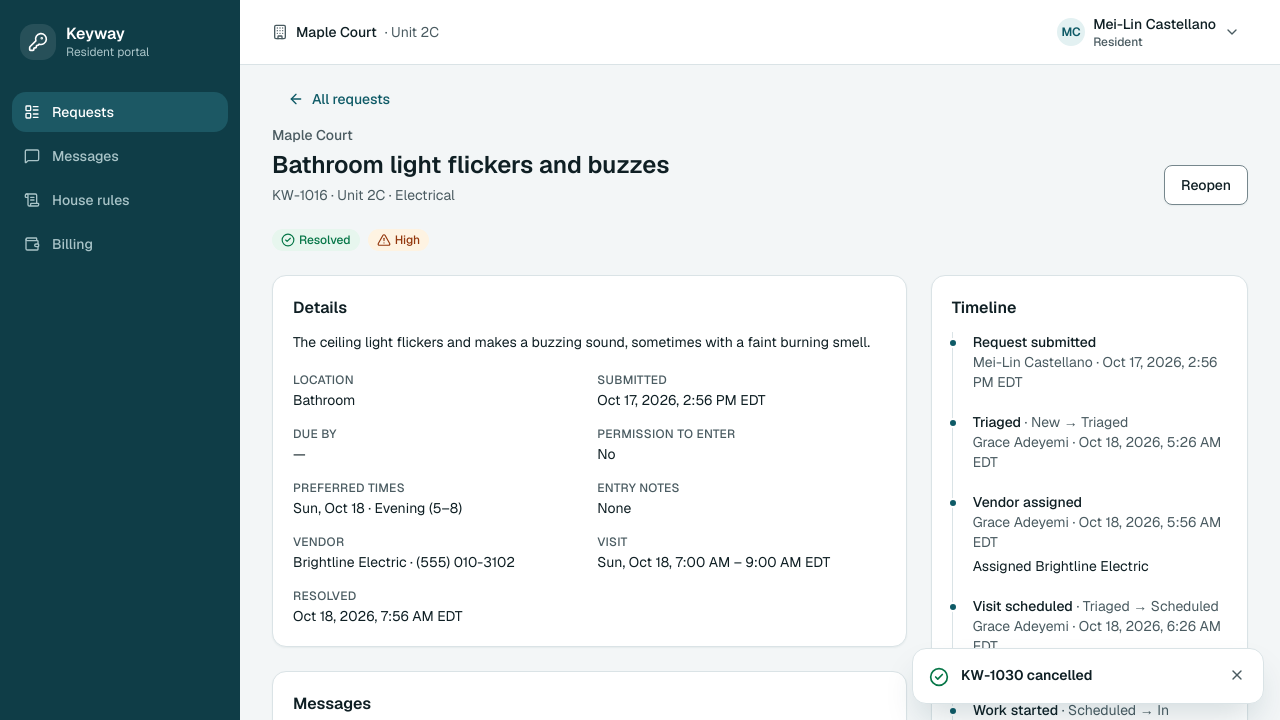
RequestDetailView › lets the resident reopen a recently resolved request with a reason
The width and height of the screenshot is (1280, 720).
Check: the heading "Bathroom light flickers and buzzes" is shown, box x1=272 y1=149 x2=670 y2=181
Click the button "Reopen" at {"x": 1206, "y": 185}, box x1=1164 y1=165 x2=1248 y2=205
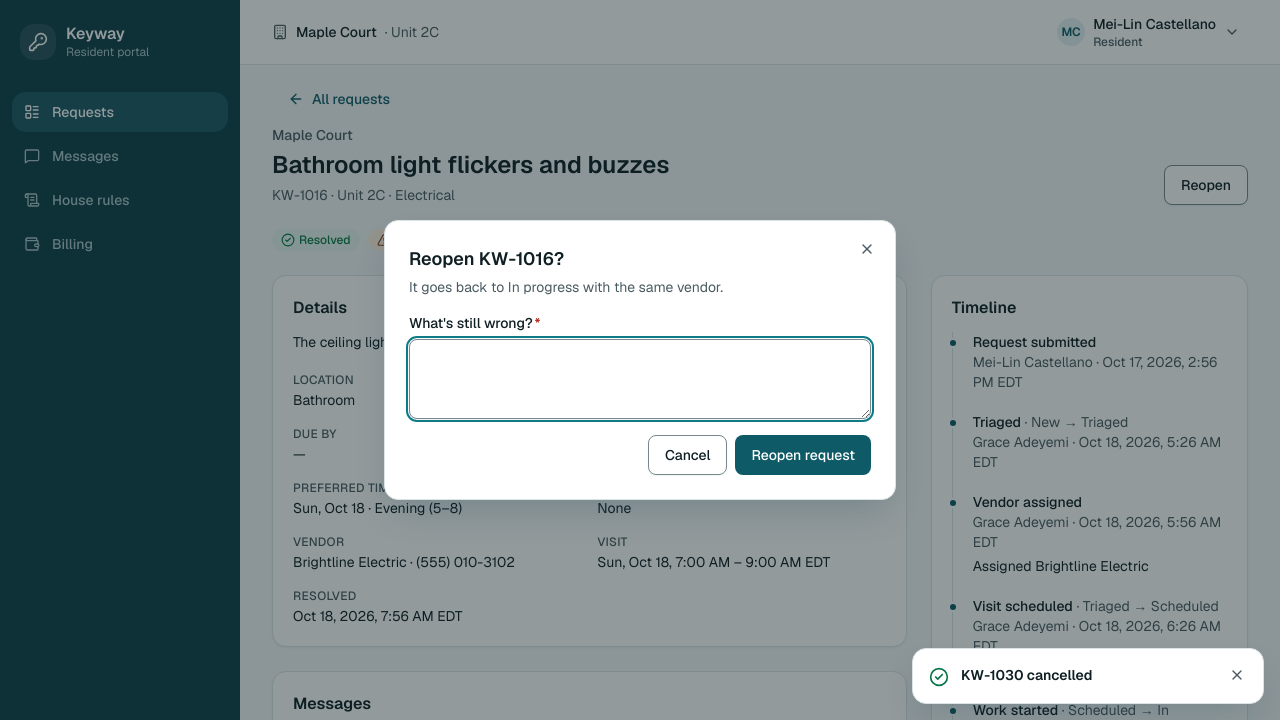
Click the button "Reopen request" at {"x": 803, "y": 455}, box x1=736 y1=435 x2=871 y2=475
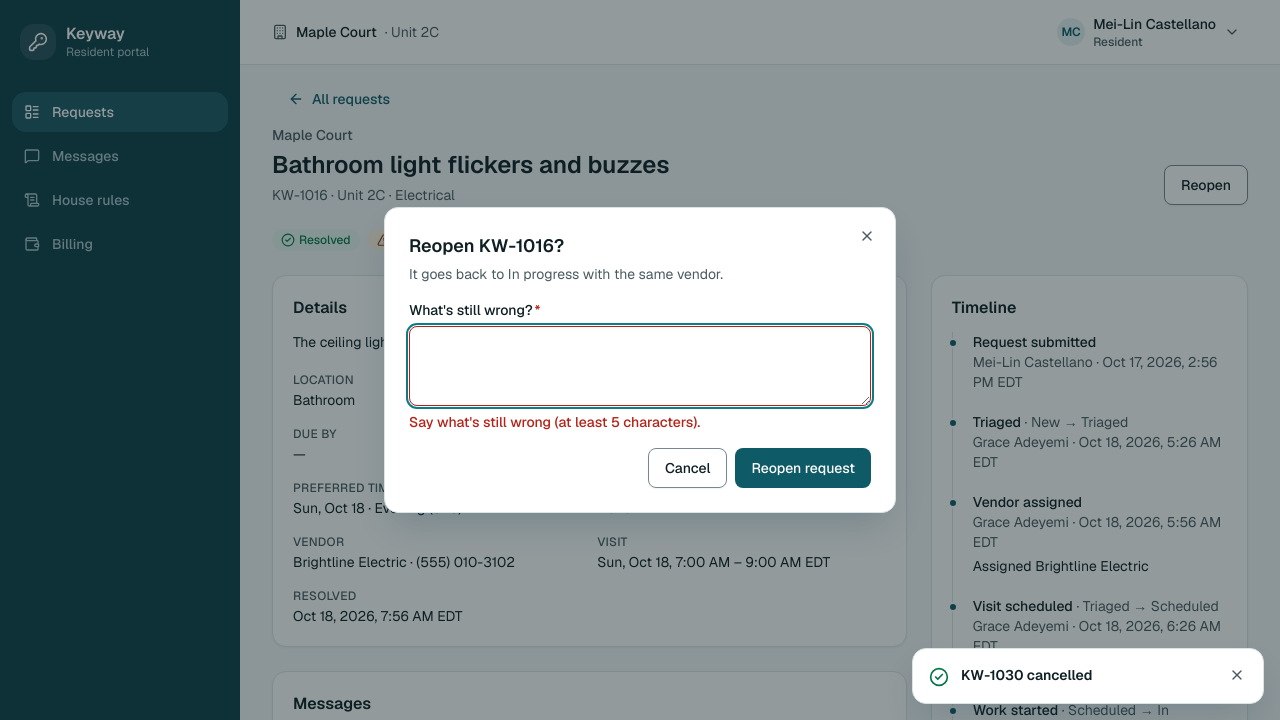
Check: the text "Say what's still wrong (at least 5 characters)." is shown, box x1=409 y1=413 x2=700 y2=431
Type "Buzzing is back." into the text box labelled "What's still wrong?*" at {"x": 640, "y": 366}, box x1=409 y1=326 x2=871 y2=406
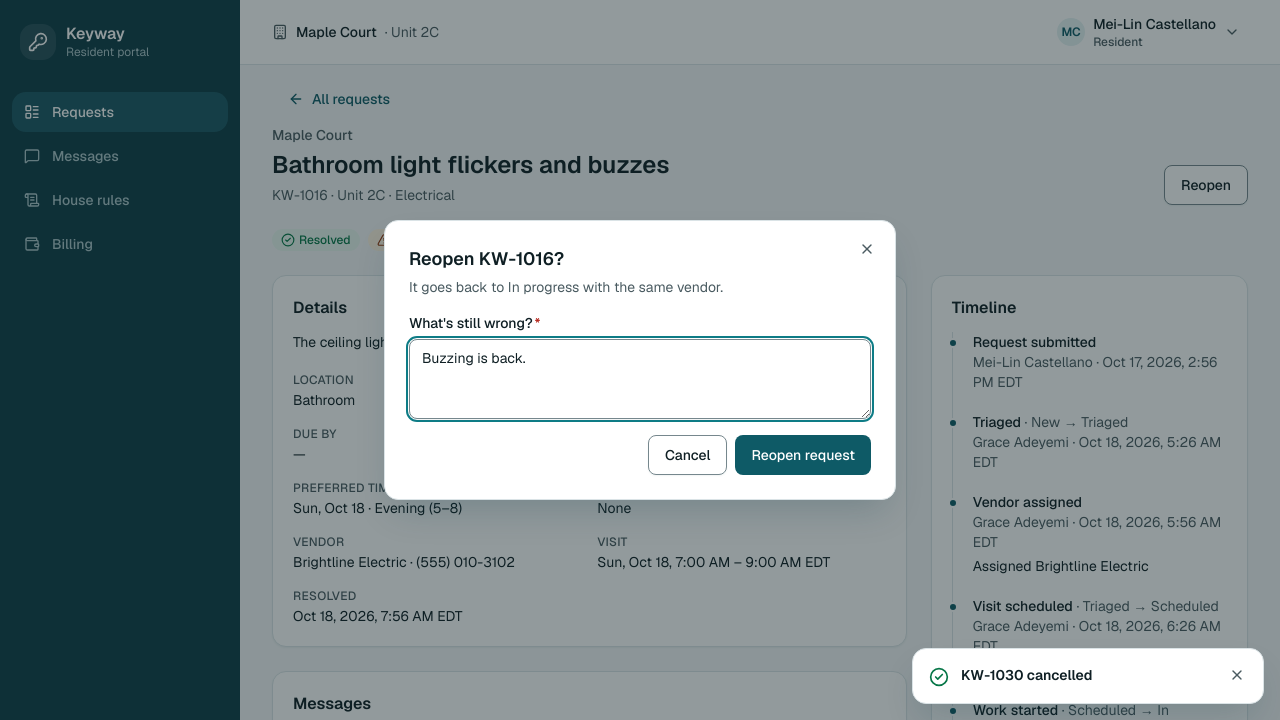
Click the button "Reopen request" at {"x": 803, "y": 455}, box x1=736 y1=435 x2=871 y2=475
(page scrolled)
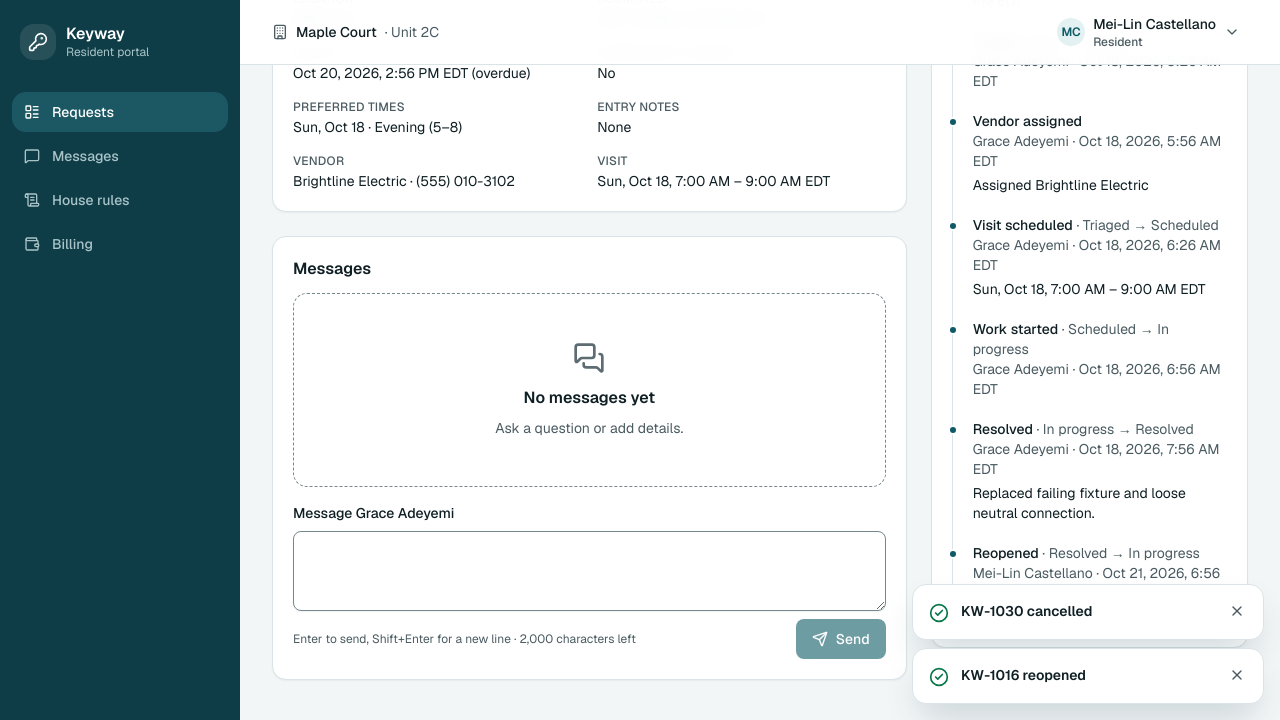
Check: the text "KW-1016 reopened" is shown, box x1=961 y1=666 x2=1086 y2=684
Check: the list item that starts with "Reopened" shows "Resolved → In progress", box x1=973 y1=543 x2=1227 y2=627
Check: the list item that starts with "Reopened" shows "Buzzing is back.", box x1=973 y1=608 x2=1076 y2=626
